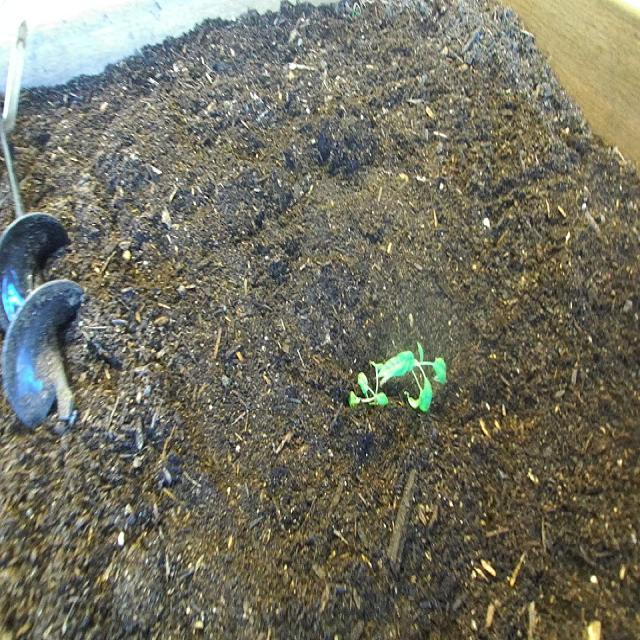Healthy: (346, 339, 448, 416)
